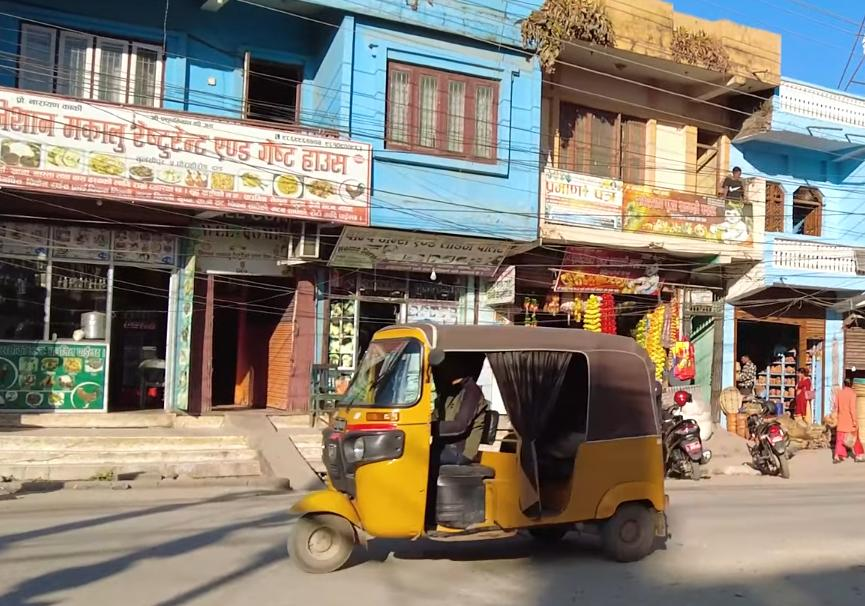auto_rickshaw: (287, 315, 674, 583)
